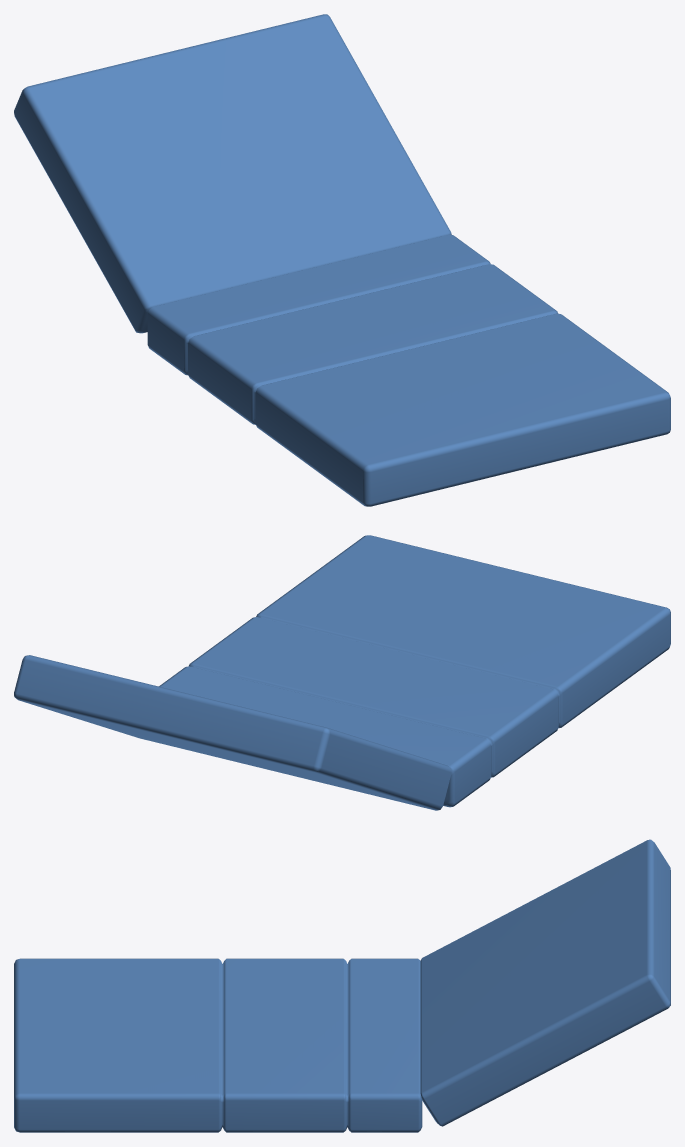
Rendered from SM_HospitalBed_02r.FBX.
3 renders of one model, top to bottom at view 1: azimuth 30°, elevation 25°; view 2: azimuth 150°, elevation 25°; view 3: azimuth 270°, elevation 25°, orthographic. The views are drawn at different scales.
Visible parts, largest first — view 1: SM_HospitalBed_02r_LOD0; view 2: SM_HospitalBed_02r_LOD0; view 3: SM_HospitalBed_02r_LOD0.
Part boxes in pixels (left/top/right/bottom): SM_HospitalBed_02r_LOD0: left=14, top=14, right=670, bottom=506; SM_HospitalBed_02r_LOD0: left=14, top=535, right=670, bottom=810; SM_HospitalBed_02r_LOD0: left=14, top=839, right=670, bottom=1132.
Size of what is drawn, in the model's own units: 94.34 by 50.07 by 188.
